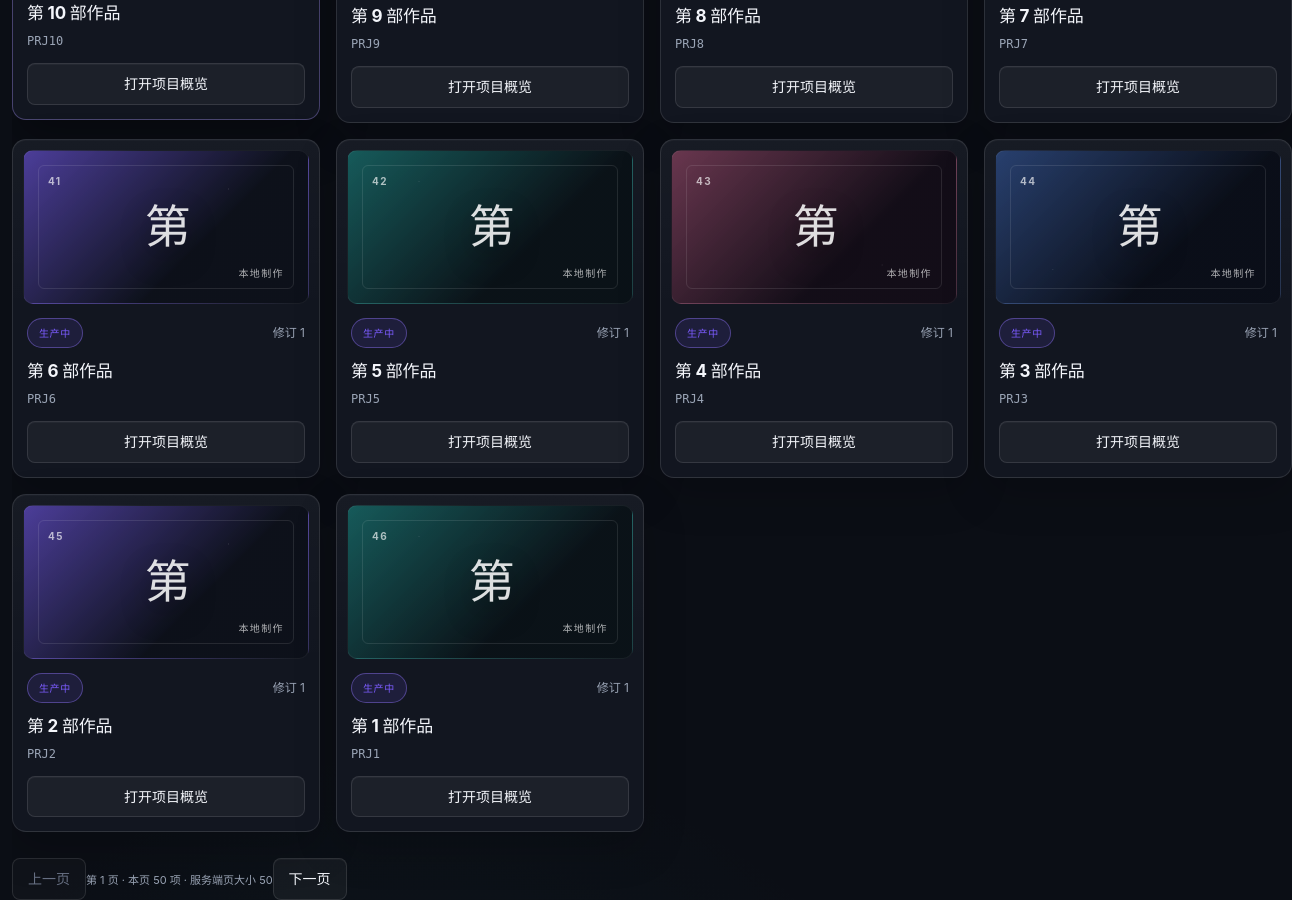
Test: ProjectsPage recent projects › reaches the last of 101 projects, keeps loaded pages, and never duplicates a row
(page scrolled)
Expected: the heading "第 1 部作品" is shown, [351,716,433,736]
Click the button "下一页" at {"x": 310, "y": 879}, box [273,858,347,899]
(page scrolled)
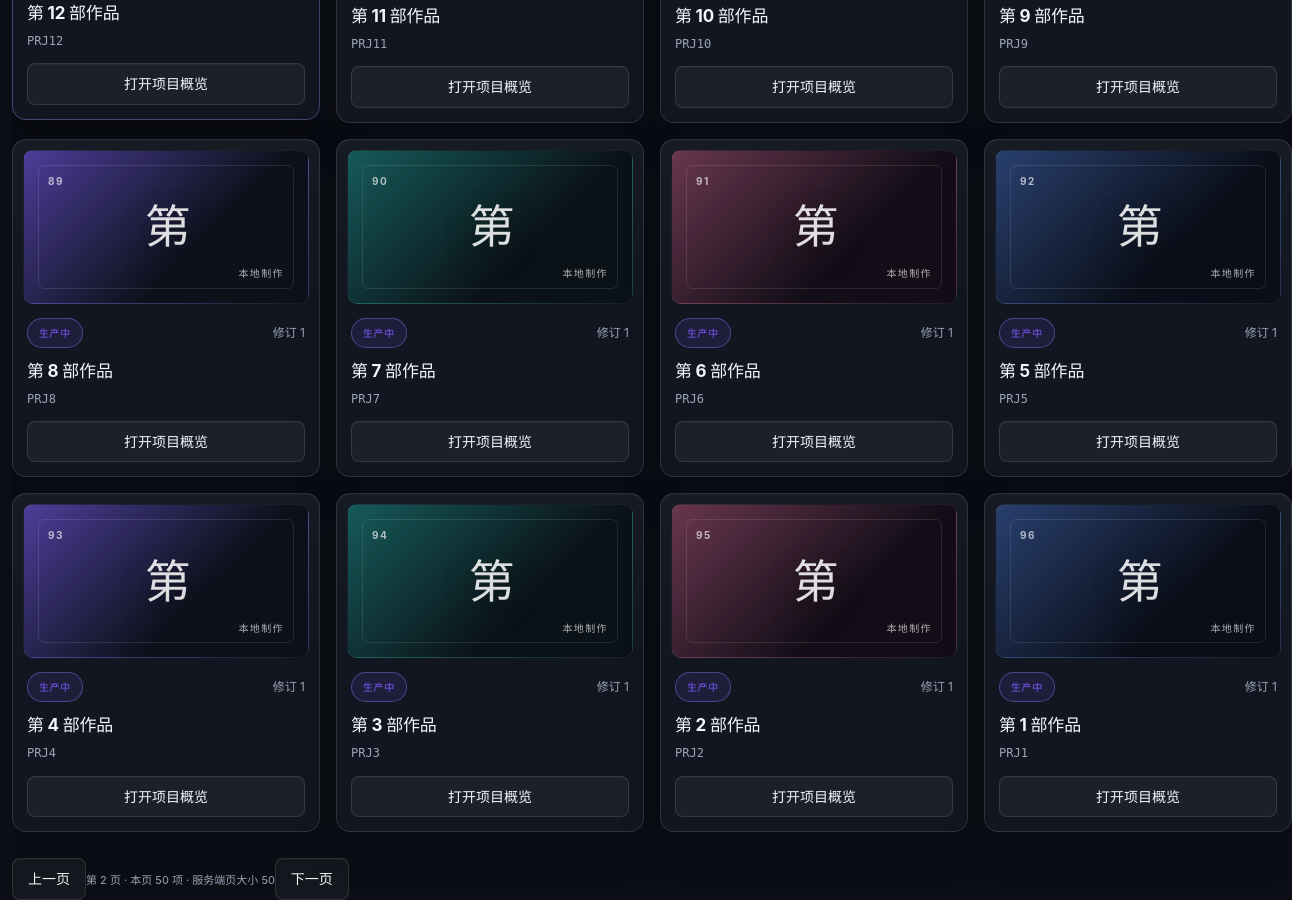
Click the button "下一页" at {"x": 312, "y": 879}, box [275,858,349,899]
(page scrolled)
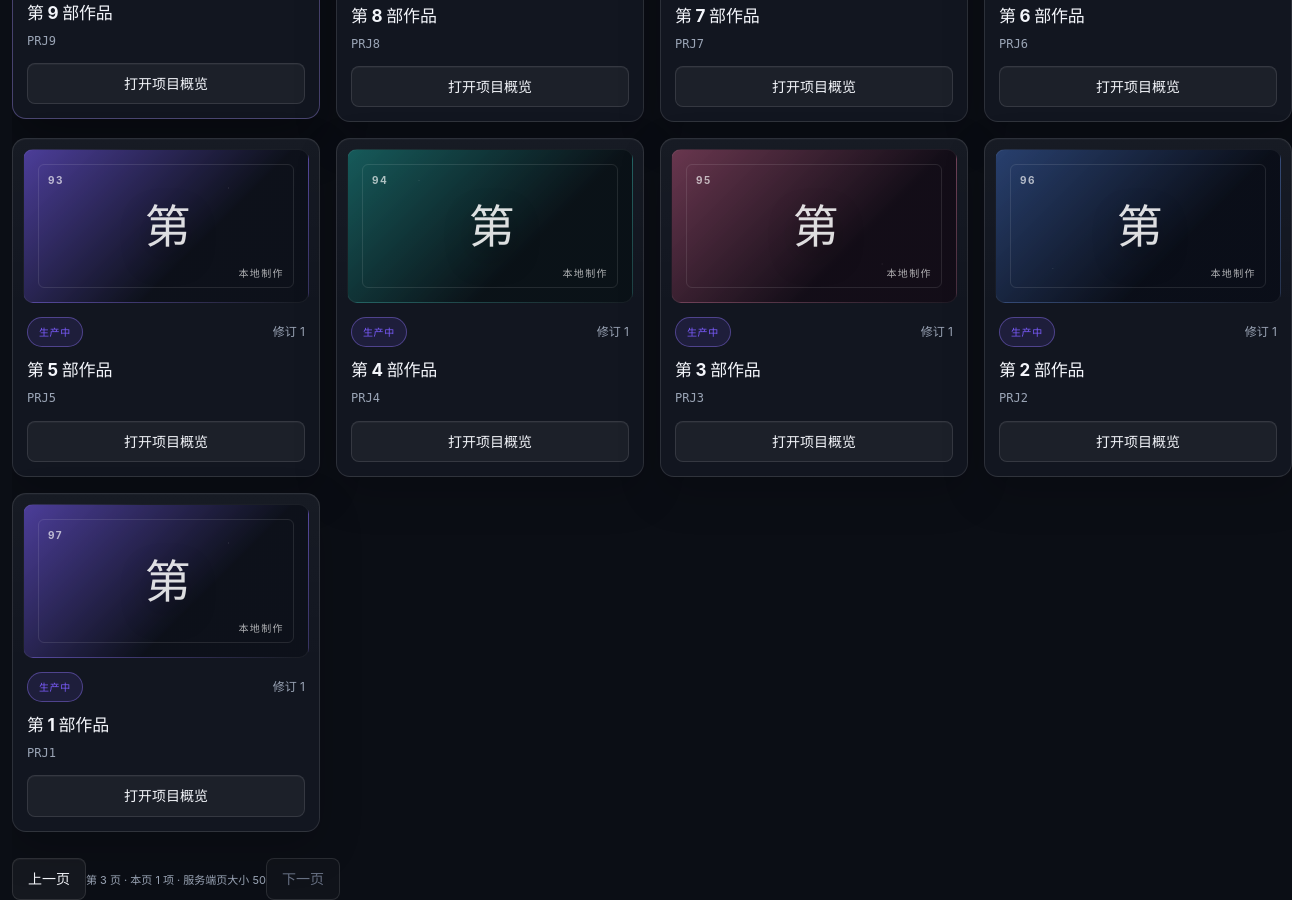
Now the button "下一页" is disabled, box [266,858,340,899]
